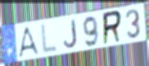3: (124, 8, 141, 40)
9: (82, 15, 101, 48)
A: (17, 26, 41, 60)
J: (63, 18, 79, 50)
L: (40, 22, 59, 56)
R: (102, 9, 123, 47)
